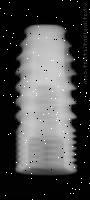Sterngold: (16, 23, 77, 175)
